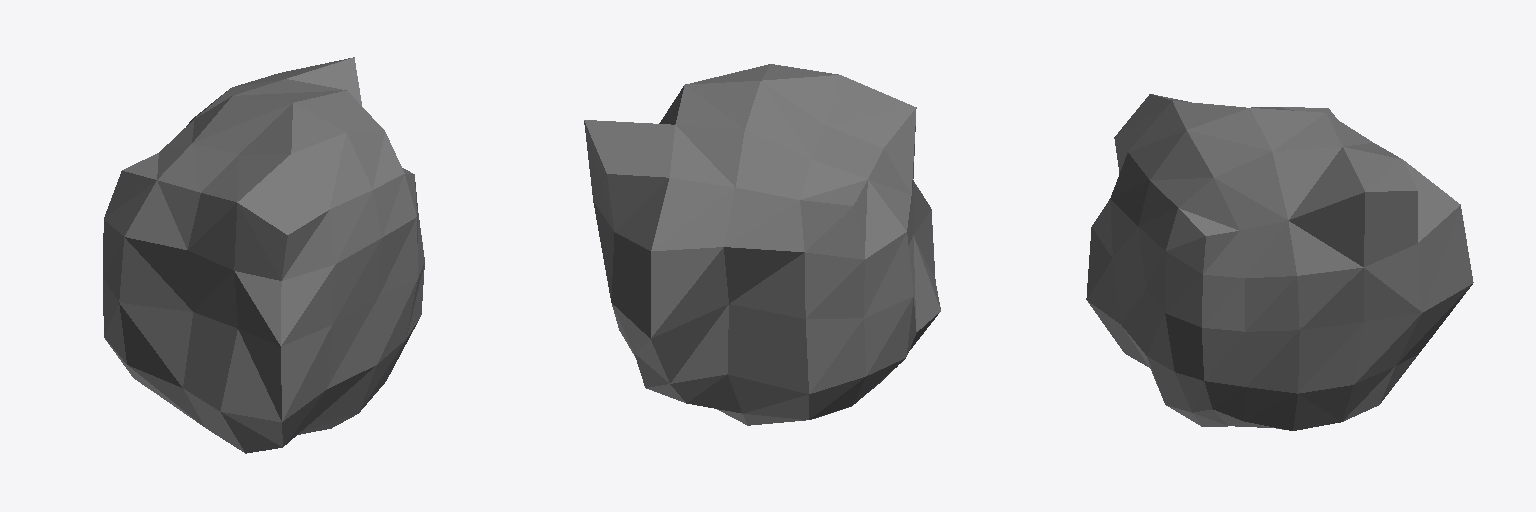
File: rock045.obj
3 renders of one model, left to right at view 1: azimuth 30°, elevation 25°; view 2: azimuth 150°, elevation 25°; view 3: azimuth 270°, elevation 25°, orthographic.
Visible parts, largest first — view 1: pCube135; view 2: pCube135; view 3: pCube135.
Boxes of the visible parts, box(x1,y1,x2,y2) form: pCube135: box(103, 57, 424, 453); pCube135: box(584, 64, 940, 425); pCube135: box(1086, 94, 1473, 430).
Size of the model in its own units: 1170 by 1257 by 1388.